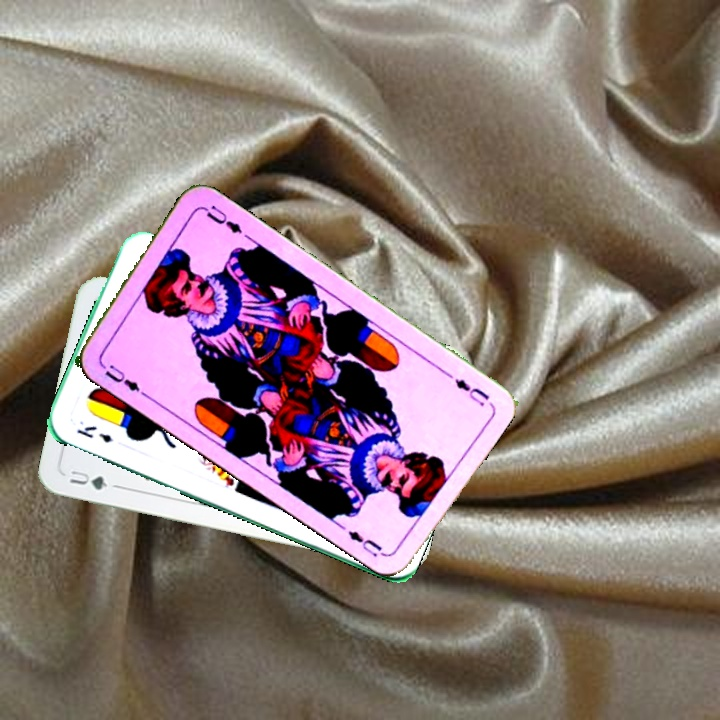EK: (73, 422, 116, 446)
EU: (96, 358, 148, 399), (450, 374, 493, 409)
GU: (66, 466, 110, 493)
